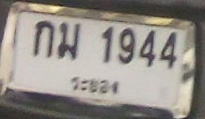txt01: (31, 19, 54, 58)
txt28: (55, 21, 81, 61)
